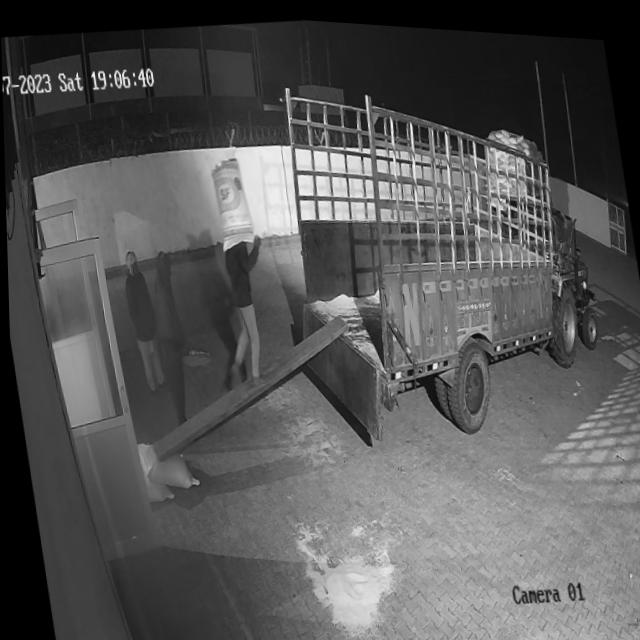sack: (208, 151, 255, 251), (133, 433, 196, 492)
